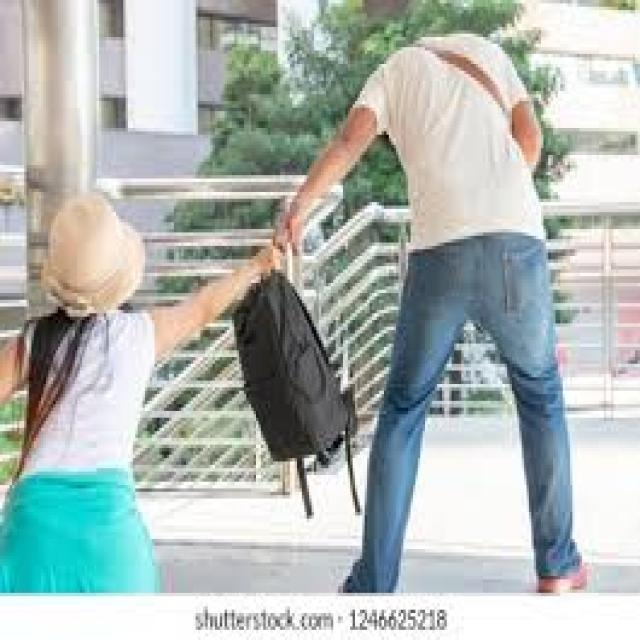Theft_Snatching: (33, 111, 511, 480)
